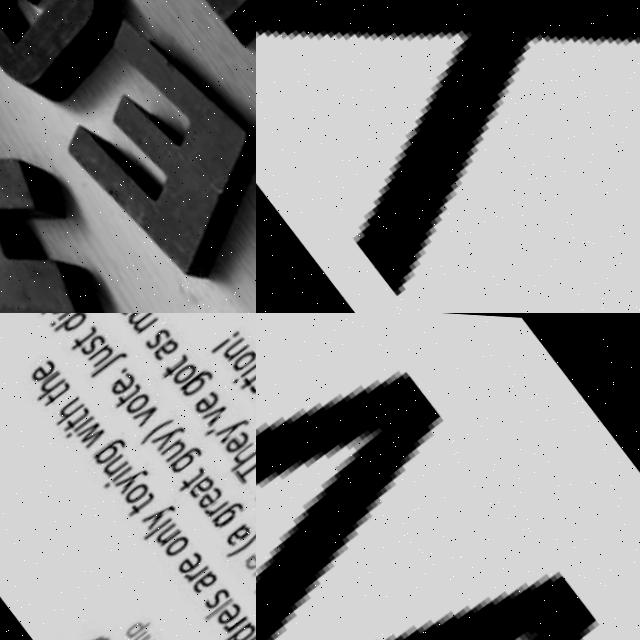A: (191, 563, 224, 594), (189, 469, 220, 499), (226, 517, 256, 545), (151, 333, 181, 361)
C: (248, 366, 256, 395)
D: (52, 313, 93, 342), (224, 614, 256, 640), (40, 313, 78, 323)
E: (22, 0, 256, 298), (175, 546, 208, 577), (216, 596, 247, 627), (197, 479, 228, 510), (109, 366, 140, 397), (193, 385, 224, 416), (30, 355, 60, 386), (223, 425, 254, 455), (244, 540, 256, 570)
G: (0, 0, 131, 101), (92, 431, 131, 468), (179, 361, 217, 398), (212, 494, 250, 530), (169, 440, 207, 476)
H: (31, 367, 69, 403), (50, 394, 86, 427), (224, 436, 256, 470)
I: (66, 411, 98, 440), (103, 462, 135, 490), (232, 354, 256, 382), (48, 313, 81, 328)
J: (91, 346, 130, 381)
K: (0, 83, 145, 313)
L: (205, 592, 236, 619), (144, 512, 175, 539)
M: (124, 313, 160, 333), (132, 625, 159, 640)
N: (155, 517, 185, 545), (102, 449, 132, 477), (222, 331, 251, 359), (240, 628, 256, 640)
O: (164, 528, 195, 559), (123, 386, 154, 417), (124, 476, 155, 506), (171, 357, 202, 387), (229, 342, 256, 373)
P: (126, 613, 154, 639)
R: (185, 555, 213, 581), (225, 606, 252, 632), (207, 492, 231, 516)
S: (143, 322, 173, 351), (205, 581, 235, 610), (79, 329, 109, 357)
T: (126, 487, 160, 517), (176, 462, 210, 492), (112, 379, 146, 409), (68, 322, 100, 352), (41, 379, 73, 408), (159, 349, 191, 378), (63, 403, 94, 431), (233, 446, 256, 483), (236, 358, 256, 389)
U: (87, 339, 117, 370), (161, 435, 190, 463)
V: (133, 397, 164, 427), (201, 396, 232, 426)
W: (256, 313, 640, 640), (76, 415, 111, 450)
X: (256, 0, 640, 313)
Y: (214, 406, 255, 443), (143, 493, 181, 530), (151, 415, 189, 451), (114, 460, 152, 495)
